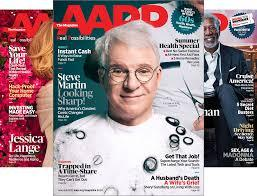Printing industry: (3, 0, 257, 196)
